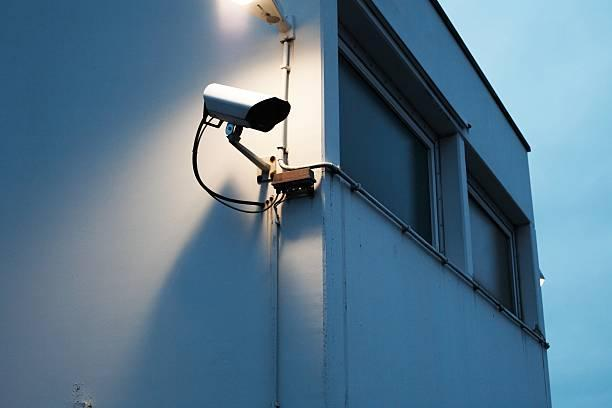camera: (186, 55, 307, 164)
